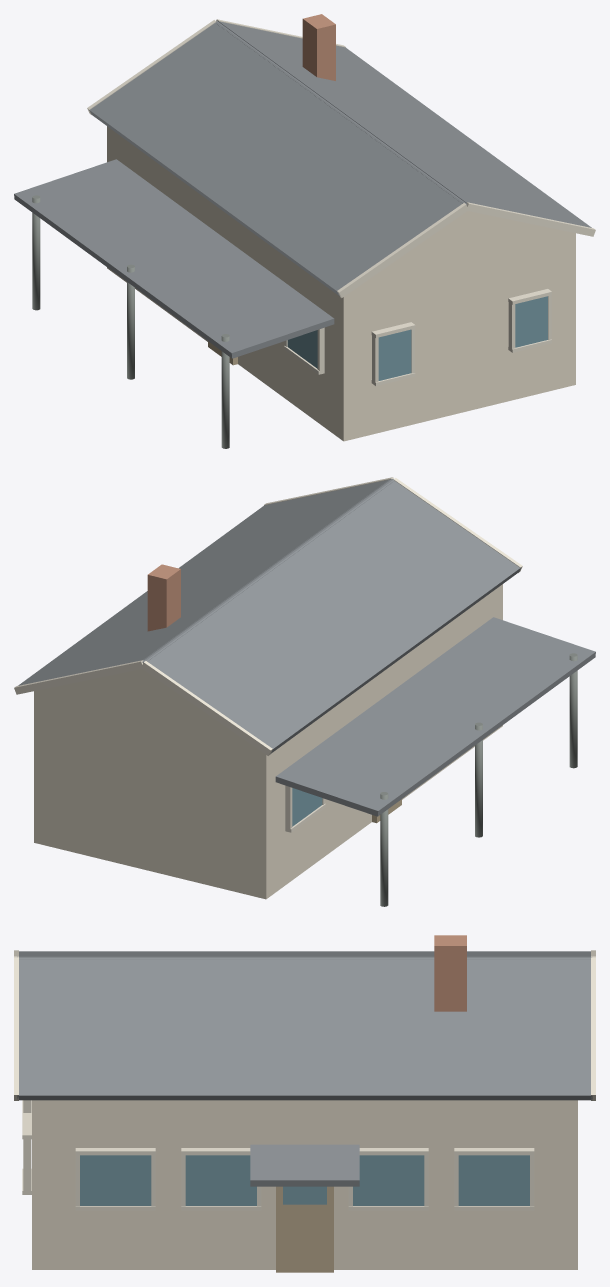
Rendered from rhine-station-modern_lod1.glb.
3 renders of one model, top to bottom at view 1: azimuth 30°, elevation 25°; view 2: azimuth 150°, elevation 25°; view 3: azimuth 270°, elevation 25°, orthographic. The views are drawn at different scales.
Visible parts, largest first — view 1: RF_Roof.001, RF_Station_Body, RF_PlatformCanopy, RF_Roof, RF_Gable, RF_StationChimney, RF_Window.009, RF_Window, RF_Vergeband.001, RF_Vergeband.003, RF_Ridge, RF_CanopyColumn.001 (+4 smaller); view 2: RF_Station_Body, RF_Roof.001, RF_PlatformCanopy, RF_Roof, RF_Gable.001, RF_StationChimney, RF_Vergeband.002, RF_Vergeband, RF_Ridge, RF_CanopyColumn, RF_CanopyColumn.001, RF_CanopyColumn.002 (+2 smaller); view 3: RF_Roof, RF_Station_Body, RF_PublicAwning, RF_Station_Door, RF_Roof.001, RF_Window.005, RF_Window.008, RF_Window.006, RF_Window.007, RF_StationChimney, RF_Ridge, RF_Station_DoorGlazing (+7 smaller).
Boxes of the visible parts, x1=… form: RF_Roof.001: x1=89, y1=22, x2=463, y2=296; RF_Station_Body: x1=107, y1=126, x2=575, y2=441; RF_PlatformCanopy: x1=14, y1=159, x2=334, y2=358; RF_Roof: x1=218, y1=21, x2=591, y2=227; RF_Gable: x1=366, y1=211, x2=568, y2=281; RF_StationChimney: x1=302, y1=14, x2=335, y2=80; RF_Window.009: x1=378, y1=329, x2=411, y2=380; RF_Window: x1=515, y1=296, x2=547, y2=347; RF_Vergeband.001: x1=337, y1=203, x2=468, y2=297; RF_Vergeband.003: x1=466, y1=202, x2=595, y2=236; RF_Ridge: x1=216, y1=21, x2=467, y2=205; RF_CanopyColumn.001: x1=221, y1=334, x2=229, y2=448; RF_Station_Body: x1=34, y1=584, x2=502, y2=899; RF_Roof.001: x1=146, y1=480, x2=520, y2=754; RF_PlatformCanopy: x1=275, y1=617, x2=595, y2=816; RF_Roof: x1=18, y1=479, x2=391, y2=685; RF_Gable.001: x1=41, y1=669, x2=243, y2=739; RF_StationChimney: x1=147, y1=564, x2=180, y2=631; RF_Vergeband.002: x1=141, y1=661, x2=272, y2=755; RF_Vergeband: x1=14, y1=660, x2=143, y2=694; RF_Ridge: x1=142, y1=479, x2=394, y2=662; RF_CanopyColumn: x1=380, y1=792, x2=388, y2=906; RF_CanopyColumn.001: x1=569, y1=653, x2=577, y2=768; RF_CanopyColumn.002: x1=475, y1=722, x2=482, y2=837; RF_Roof: x1=17, y1=958, x2=592, y2=1100; RF_Station_Body: x1=32, y1=1100, x2=577, y2=1269; RF_PublicAwning: x1=250, y1=1144, x2=359, y2=1186; RF_Station_Door: x1=276, y1=1186, x2=333, y2=1272; RF_Roof.001: x1=17, y1=951, x2=591, y2=957; RF_Window.005: x1=80, y1=1155, x2=151, y2=1205; RF_Window.008: x1=458, y1=1155, x2=529, y2=1205; RF_Window.006: x1=185, y1=1155, x2=256, y2=1205; RF_Window.007: x1=353, y1=1155, x2=424, y2=1205; RF_StationChimney: x1=434, y1=935, x2=466, y2=1011; RF_Ridge: x1=19, y1=957, x2=590, y2=959; RF_Station_DoorGlazing: x1=283, y1=1186, x2=326, y2=1204.
Size of the model in its own units: 14.11 by 8.7 by 15.98.
